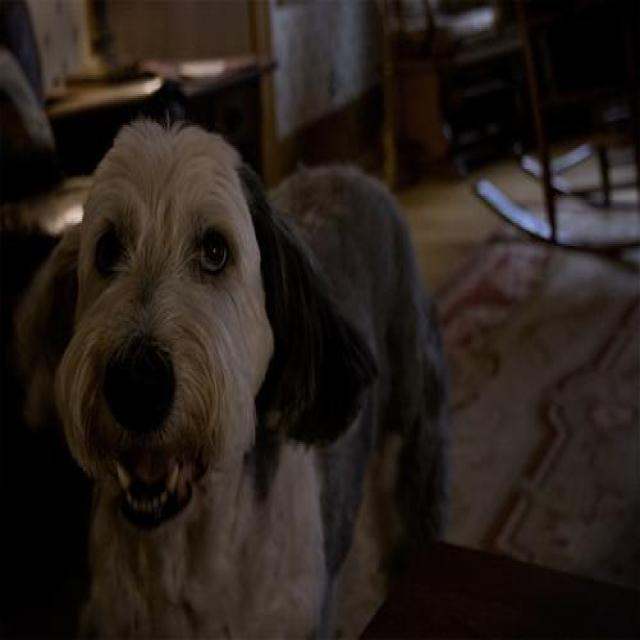Dog: (41, 76, 447, 632)
